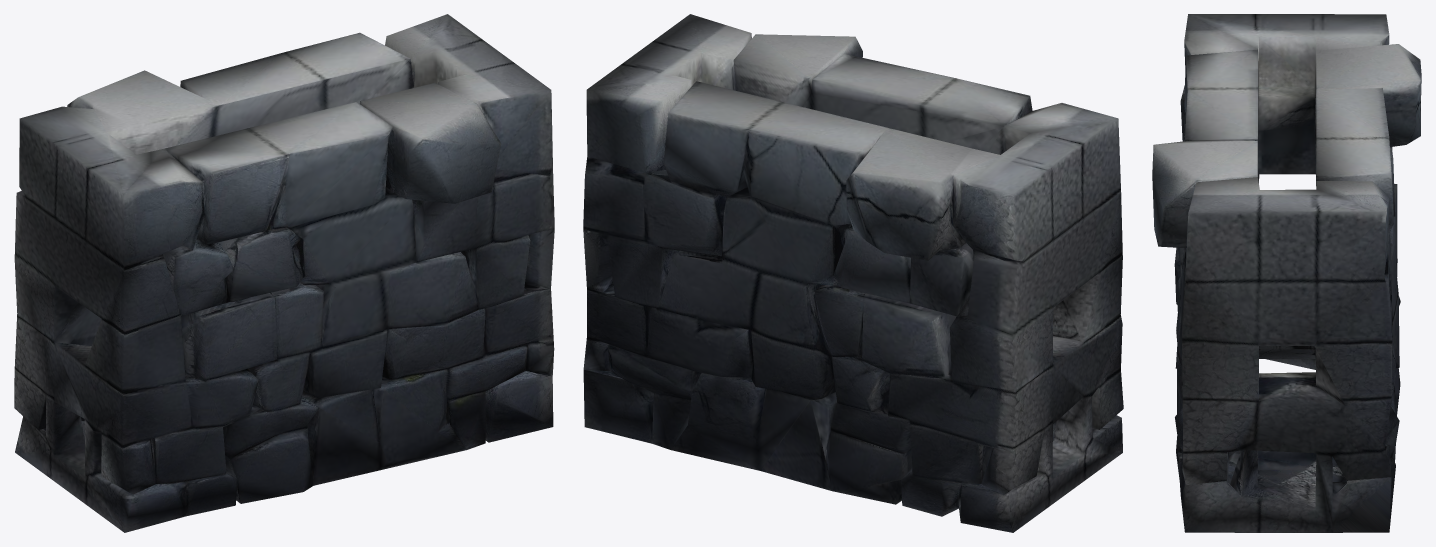
The model's file is prop-den-wall.glb.
3 renders of one model, left to right at view 1: azimuth 30°, elevation 25°; view 2: azimuth 150°, elevation 25°; view 3: azimuth 270°, elevation 25°, orthographic. The views are drawn at different scales.
Bounding box in the file's own units: 2 × 1.5 × 1.14.
Materials: 1 (1 with a texture image).
